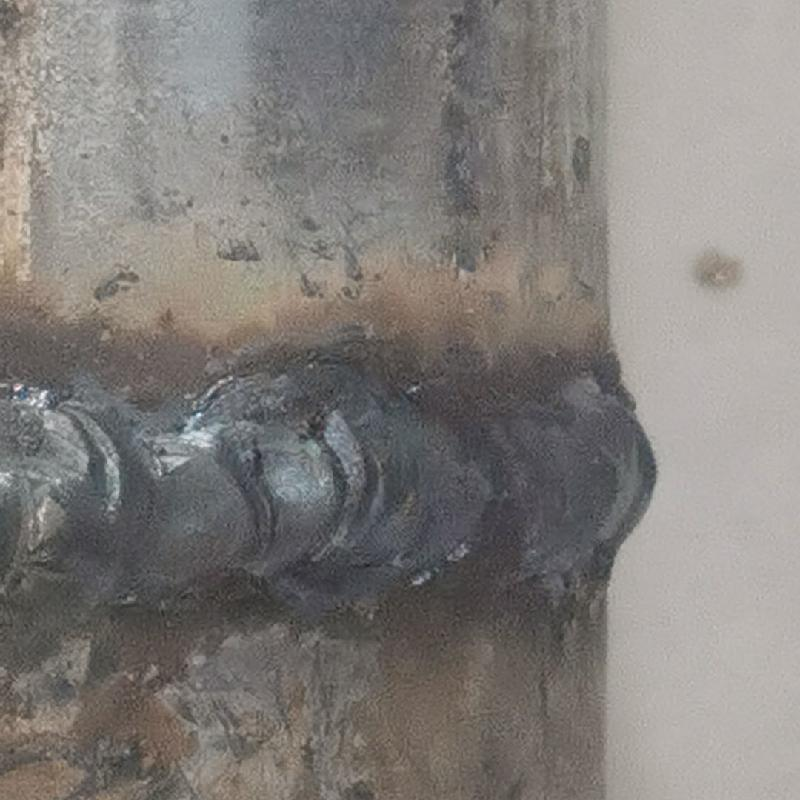good: (1, 376, 662, 597)
